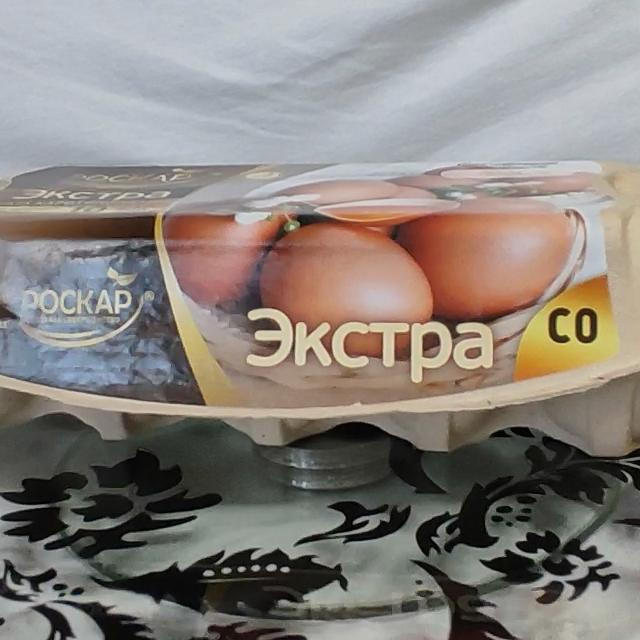egg: (0, 126, 640, 503)
